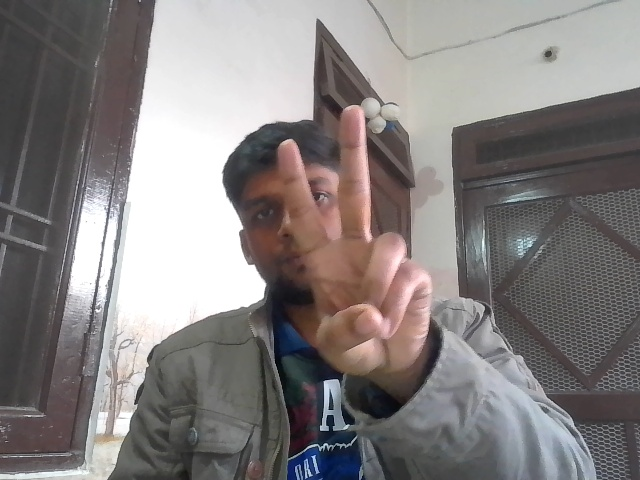Enjoy: (268, 104, 440, 389)
